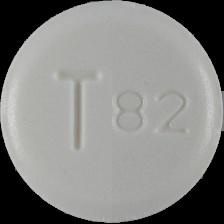0093-7582: (0, 0, 224, 224)
